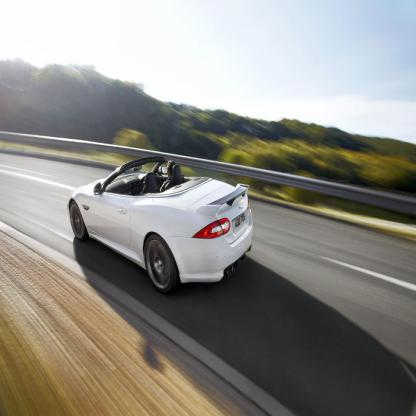Vehicle: (58, 130, 258, 318)
